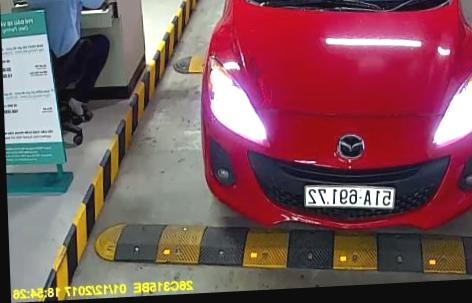License_Plate: (298, 179, 400, 215)
